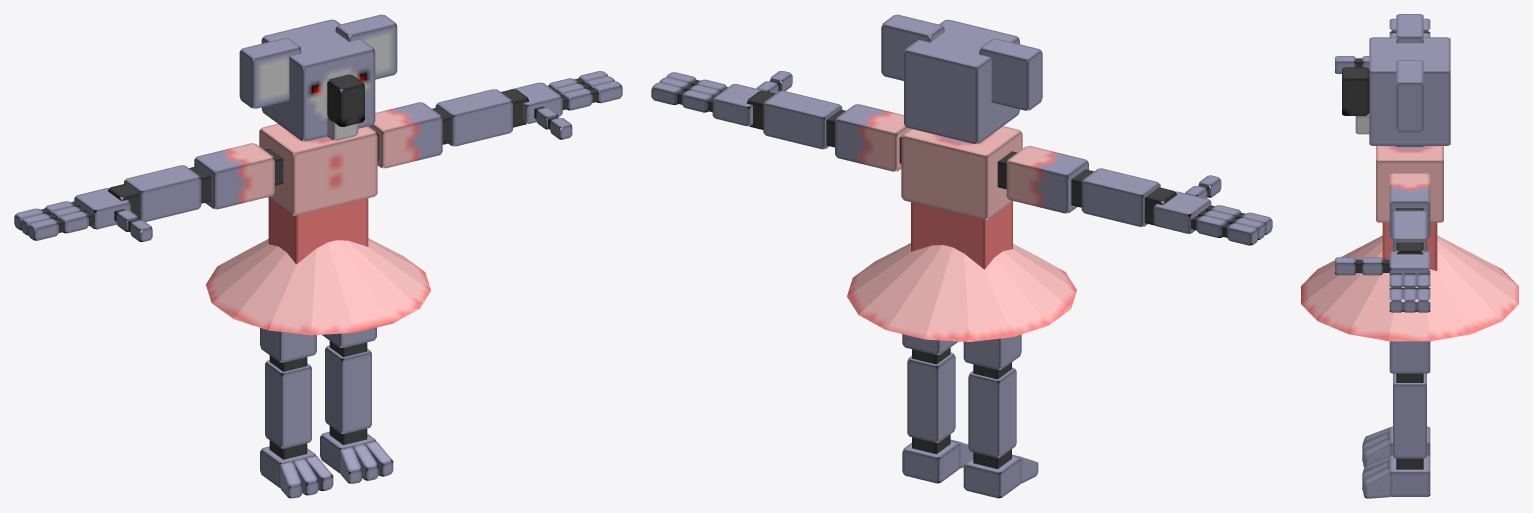
The model's file is fnaph_kerri.fbx.
The picture shows the model from 3 angles, left to right: view 1: azimuth 30°, elevation 25°; view 2: azimuth 150°, elevation 25°; view 3: azimuth 270°, elevation 25°; orthographic projection. The views are drawn at different scales.
Visible parts, largest first — view 1: cone, cube_13, cube_59, cube_12, cube_38, cube_2, cube_10, cube_15, cube_63, cube_39, cube_17, cube_62 (+7 smaller); view 2: cone, cube_59, cube_13, cube_12, cube_38, cube_2, cube_10, cube_15, cube_63, cube_39, cube_17, cube_62 (+6 smaller); view 3: cone, cube_59, cube_13, cube_10, cube_62, cube_15, cube_8, cube_61, cube_11, cube_17, cube_19, cube_63 (+13 smaller).
Part boxes in pixels (<box>): cone: <box>206,238,430,335</box>; cube_13: <box>259,124,377,215</box>; cube_59: <box>261,19,375,141</box>; cube_12: <box>268,198,368,264</box>; cube_38: <box>194,143,274,209</box>; cube_2: <box>265,360,311,448</box>; cube_10: <box>325,345,371,433</box>; cube_15: <box>369,102,442,168</box>; cube_63: <box>239,38,301,108</box>; cube_39: <box>124,165,201,221</box>; cube_17: <box>435,89,512,146</box>; cube_62: <box>335,14,397,79</box>; cone: <box>847,243,1076,341</box>; cube_59: <box>904,19,1019,143</box>; cube_13: <box>901,126,1022,219</box>; cube_12: <box>911,202,1012,269</box>; cube_38: <box>1006,146,1088,213</box>; cube_2: <box>968,367,1016,457</box>; cube_10: <box>907,352,955,442</box>; cube_15: <box>835,104,910,171</box>; cube_63: <box>979,38,1042,110</box>; cube_39: <box>1081,168,1160,226</box>; cube_17: <box>763,90,842,149</box>; cube_62: <box>881,14,944,80</box>; cone: <box>1301,235,1518,341</box>; cube_59: <box>1369,37,1450,145</box>; cube_13: <box>1376,146,1443,222</box>; cube_10: <box>1393,373,1426,458</box>; cube_62: <box>1396,60,1423,132</box>; cube_15: <box>1389,173,1430,238</box>; cube_8: <box>1389,341,1430,373</box>; cube_61: <box>1342,67,1369,115</box>; cube_11: <box>1389,455,1430,496</box>; cube_17: <box>1393,210,1426,251</box>; cube_19: <box>1389,251,1430,286</box>; cube_63: <box>1396,14,1423,43</box>.
Size of the model in its own units: 306 by 216 by 100.
